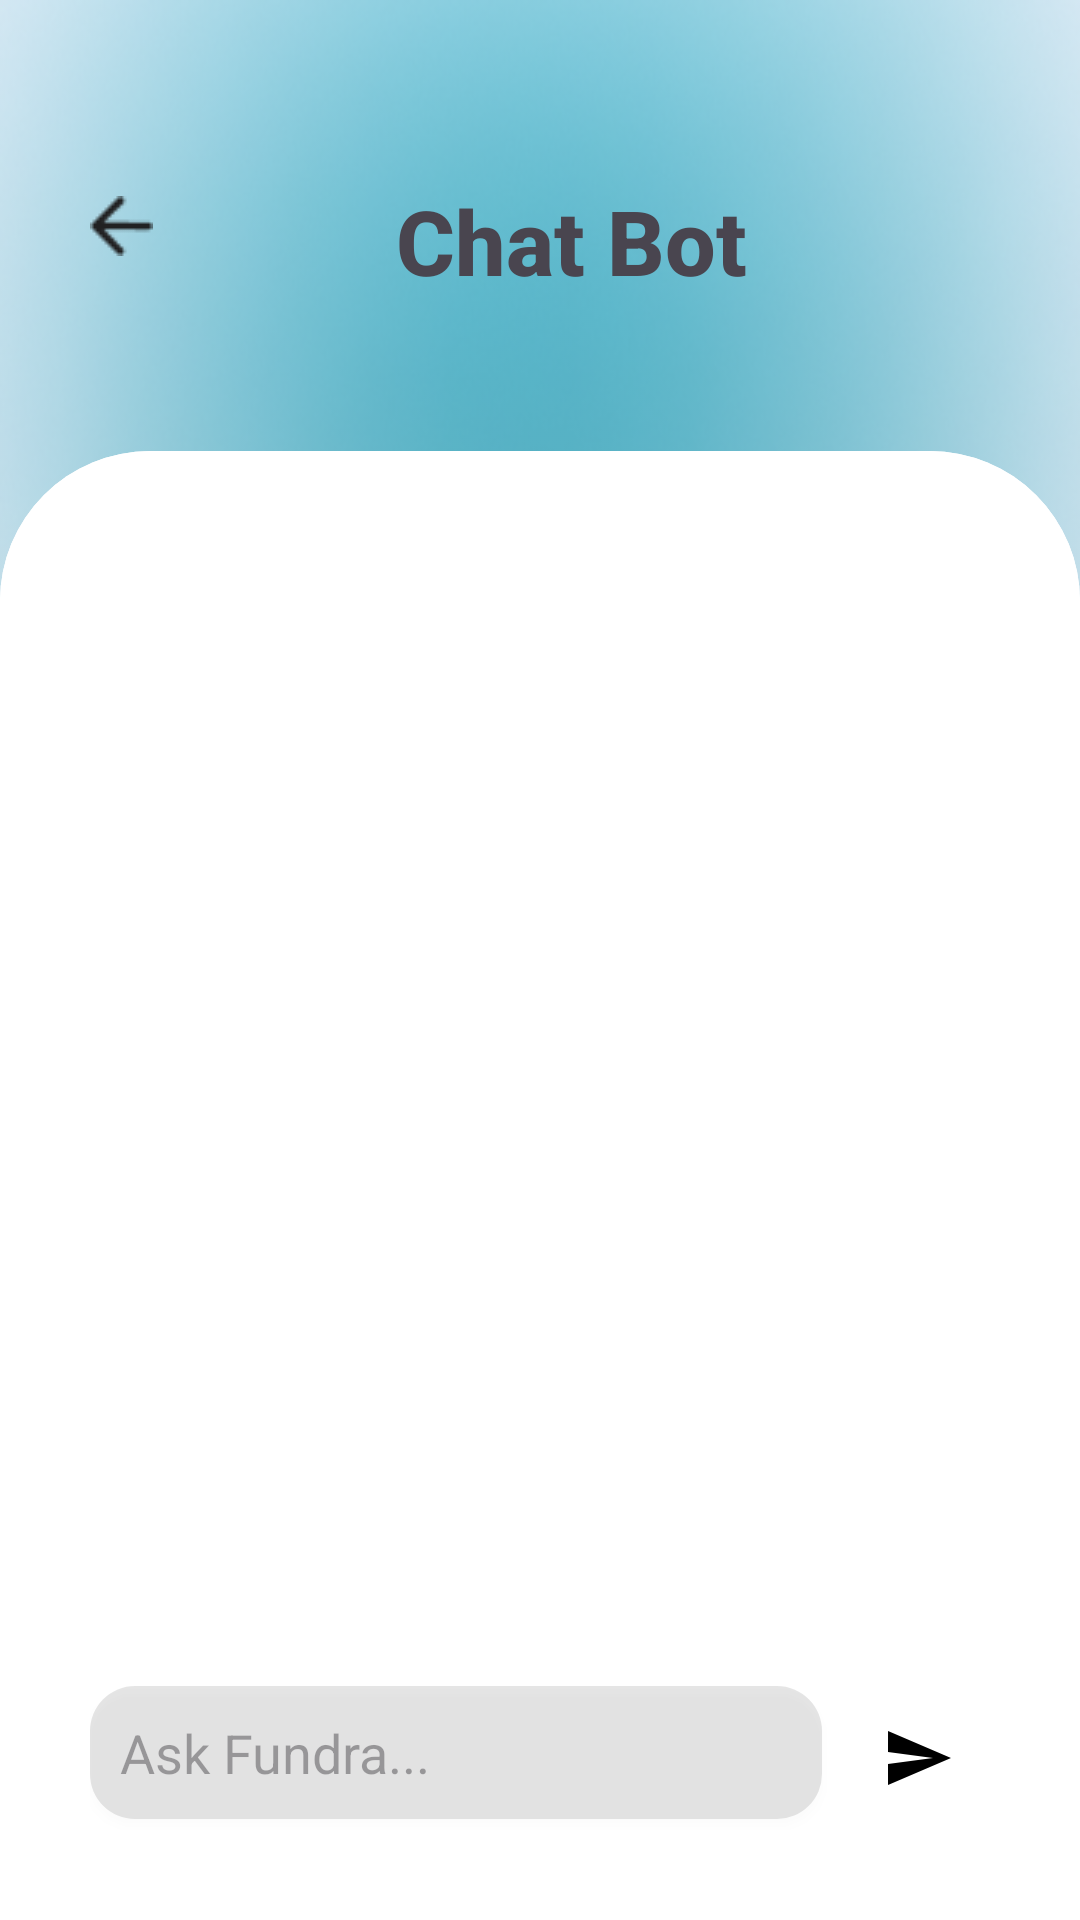

Where to tap for icons on this 1080x1920 app screen, as (x=x, y=y):
back: (x=121, y=226)
is send: (x=919, y=1758)
